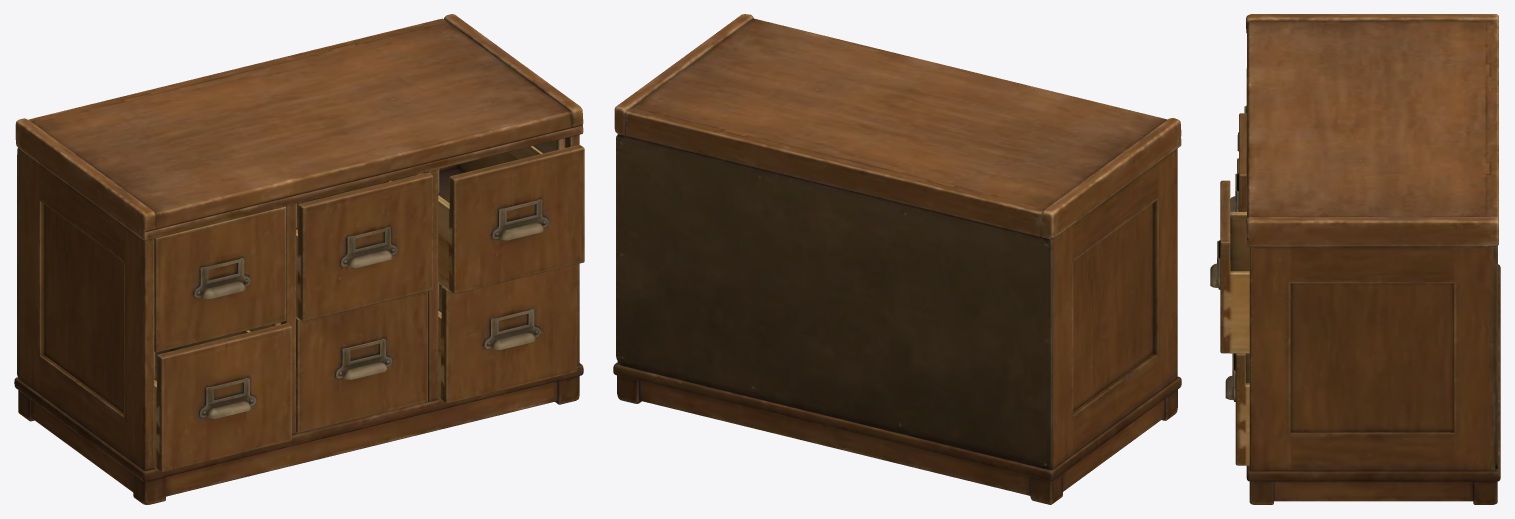
Rendered from vintage_wooden_drawer_01_1k.glb.
3 views of the same model, side by side, from view 1: azimuth 30°, elevation 25°; view 2: azimuth 150°, elevation 25°; view 3: azimuth 270°, elevation 25° (orthographic). The views are drawn at different scales.
Visible parts, largest first — view 1: vintage_wooden_drawer_01_body, vintage_wooden_drawer_01_drawer03, vintage_wooden_drawer_01_drawer04, vintage_wooden_drawer_01_drawer02, vintage_wooden_drawer_01_drawer01, vintage_wooden_drawer_01_drawer06, vintage_wooden_drawer_01_drawer05; view 2: vintage_wooden_drawer_01_body; view 3: vintage_wooden_drawer_01_body, vintage_wooden_drawer_01_drawer03, vintage_wooden_drawer_01_drawer06, vintage_wooden_drawer_01_drawer02.
Part boxes in pixels (x1,y1,x2,y2): vintage_wooden_drawer_01_body: (14, 14, 583, 504); vintage_wooden_drawer_01_drawer03: (438, 145, 584, 293); vintage_wooden_drawer_01_drawer04: (154, 323, 291, 472); vintage_wooden_drawer_01_drawer02: (296, 172, 433, 321); vintage_wooden_drawer_01_drawer01: (154, 206, 286, 352); vintage_wooden_drawer_01_drawer06: (438, 264, 576, 403); vintage_wooden_drawer_01_drawer05: (296, 291, 427, 433); vintage_wooden_drawer_01_body: (613, 14, 1181, 504); vintage_wooden_drawer_01_body: (1246, 14, 1500, 504); vintage_wooden_drawer_01_drawer03: (1210, 180, 1249, 353); vintage_wooden_drawer_01_drawer06: (1225, 353, 1249, 465); vintage_wooden_drawer_01_drawer02: (1230, 113, 1246, 211).
Bounding box in the file's own units: 1.72 × 1.09 × 1.01.
1 material, 1 textured.
